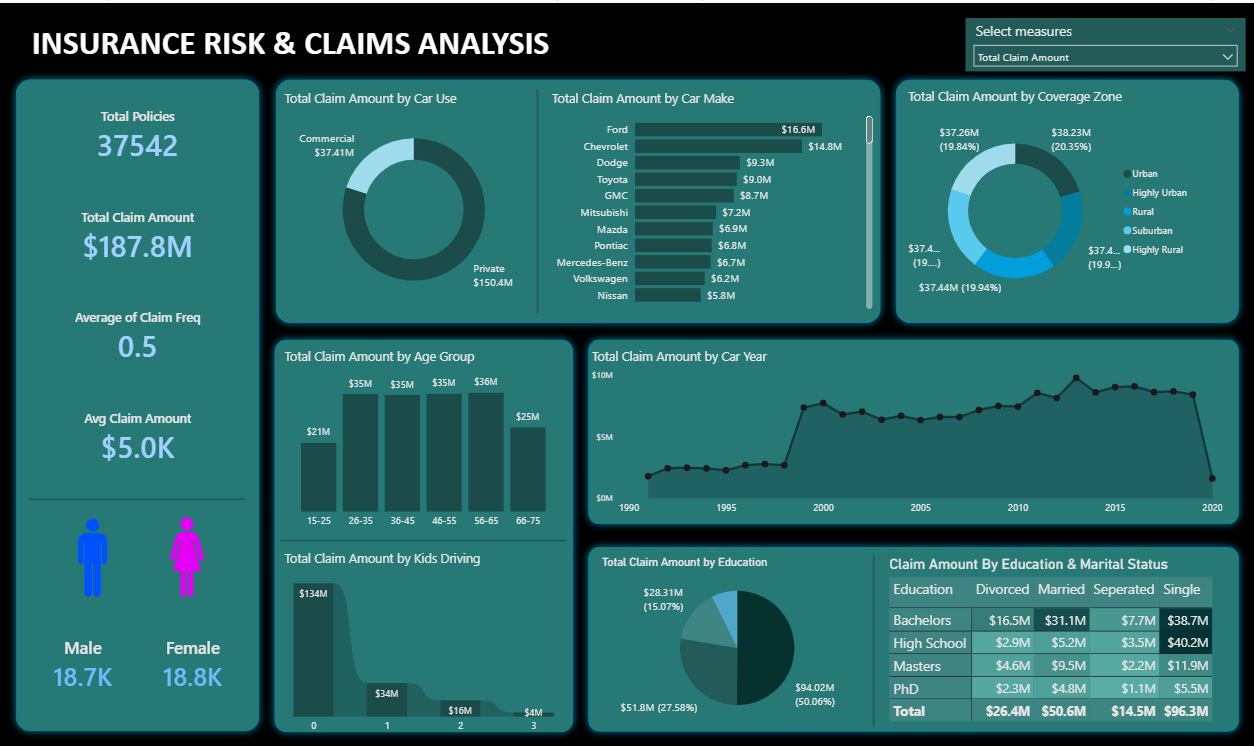

The dashboard page shown, as its layout file describes it:
{"tool":"powerbi","page":{"name":"Insurance ","canvas":[1600,950],"ordinal":0},"visuals":[{"type":"textbox","box":[38.3,18.3,686.7,70],"z":0},{"type":"shape","box":[13.3,88.3,330,850],"z":1000},{"type":"cardVisual","fields":{"Data":["insurance_data_car.Total Policies","insurance_data_car.Total Claim Amount","Avg(insurance_data_car.Claim Freq)","insurance_data_car.Avg Claim Amount"]},"box":[43.3,110,270,503.3],"z":2000},{"type":"cardVisual","fields":{"Data":["insurance_data_car.Male Count","insurance_data_car.Female Count"]},"box":[43.3,780,270,123.3],"z":3000},{"type":"image","box":[58.3,631.7,123.3,148.3],"z":4000},{"type":"image","box":[173.3,643.3,135,125],"z":5000},{"type":"slicer","fields":{"Values":["Select measures.Select measures"]},"box":[1231.7,18.3,356.7,68.3],"z":6000},{"type":"shape","box":[343.3,88.3,790,330],"z":7000},{"type":"donutChart","fields":{"Y":["insurance_data_car.Total Claim Amount"],"Category":["insurance_data_car.Car Use"]},"box":[360,110,340,285],"z":8000},{"type":"clusteredBarChart","fields":{"Y":["insurance_data_car.Total Claim Amount"],"Category":["insurance_data_car.Car Make"]},"box":[700,110,418.3,285],"z":9000},{"type":"shape","box":[1133.3,88.3,456.7,330],"z":10000},{"type":"donutChart","fields":{"Y":["insurance_data_car.Total Claim Amount"],"Category":["insurance_data_car.Coverage Zone"]},"box":[1153.3,106.7,375,295],"z":11000},{"type":"shape","box":[341.7,418.3,400,520],"z":12000},{"type":"clusteredColumnChart","fields":{"Y":["insurance_data_car.Total Claim Amount"],"Category":["insurance_data_car.Age Group"]},"box":[360,438.3,365,240],"z":13000},{"type":"ribbonChart","fields":{"Y":["insurance_data_car.Total Claim Amount"],"Category":["insurance_data_car.Kids Driving"]},"box":[360,695,365,243.3],"z":14000},{"type":"shape","box":[741.7,418.3,848.3,255],"z":15000},{"type":"lineChart","fields":{"Y":["insurance_data_car.Total Claim Amount"],"Category":["insurance_data_car.Car Year"]},"box":[751.7,438.3,813.3,223.3],"z":16000},{"type":"shape","box":[741.7,683.3,848.3,255],"z":17000},{"type":"pieChart","fields":{"Y":["insurance_data_car.Total Claim Amount"],"Category":["insurance_data_car.Education"]},"box":[763.3,703.3,355,218.3],"z":18000},{"type":"pivotTable","title":"Claim Amount By Education & Marital Status","fields":{"Rows":["insurance_data_car.Education"],"Columns":["insurance_data_car.Marital Status"],"Values":["insurance_data_car.Total Claim Amount"]},"box":[1130,703.3,470,243.3],"z":19000},{"type":"shape","box":[650,110,75,285],"z":20000},{"type":"shape","box":[1078.3,703.3,75,218.3],"z":21000},{"type":"shape","box":[360,665,365,38.3],"z":22000},{"type":"shape","box":[40,613.3,275,38.3],"z":23000}]}

Visuals, with their boxes in screenshot pixels (x1, y1, x2, y2), scaled from the page's 1600x950 canvas onto the 1254x746 screenshot:
textbox: (30,14,568,69)
shape: (10,69,269,737)
cardVisual - insurance_data_car.Total Policies x insurance_data_car.Total Claim Amount: (34,86,246,482)
cardVisual - insurance_data_car.Male Count x insurance_data_car.Female Count: (34,613,246,709)
image: (46,496,142,613)
image: (136,505,242,603)
slicer - Select measures.Select measures: (965,14,1245,68)
shape: (269,69,888,328)
donutChart - insurance_data_car.Total Claim Amount x insurance_data_car.Car Use: (282,86,549,310)
clusteredBarChart - insurance_data_car.Total Claim Amount x insurance_data_car.Car Make: (549,86,876,310)
shape: (888,69,1246,328)
donutChart - insurance_data_car.Total Claim Amount x insurance_data_car.Coverage Zone: (904,84,1198,315)
shape: (268,328,581,737)
clusteredColumnChart - insurance_data_car.Total Claim Amount x insurance_data_car.Age Group: (282,344,568,533)
ribbonChart - insurance_data_car.Total Claim Amount x insurance_data_car.Kids Driving: (282,546,568,737)
shape: (581,328,1246,529)
lineChart - insurance_data_car.Total Claim Amount x insurance_data_car.Car Year: (589,344,1227,520)
shape: (581,537,1246,737)
pieChart - insurance_data_car.Total Claim Amount x insurance_data_car.Education: (598,552,876,724)
"Claim Amount By Education & Marital Status" pivotTable: (886,552,1253,743)
shape: (509,86,568,310)
shape: (845,552,904,724)
shape: (282,522,568,552)
shape: (31,482,247,512)
